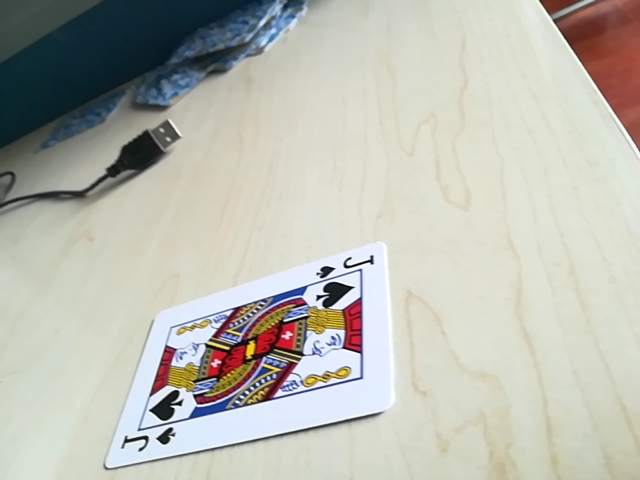ht j: (118, 421, 182, 461), (315, 254, 378, 283)
